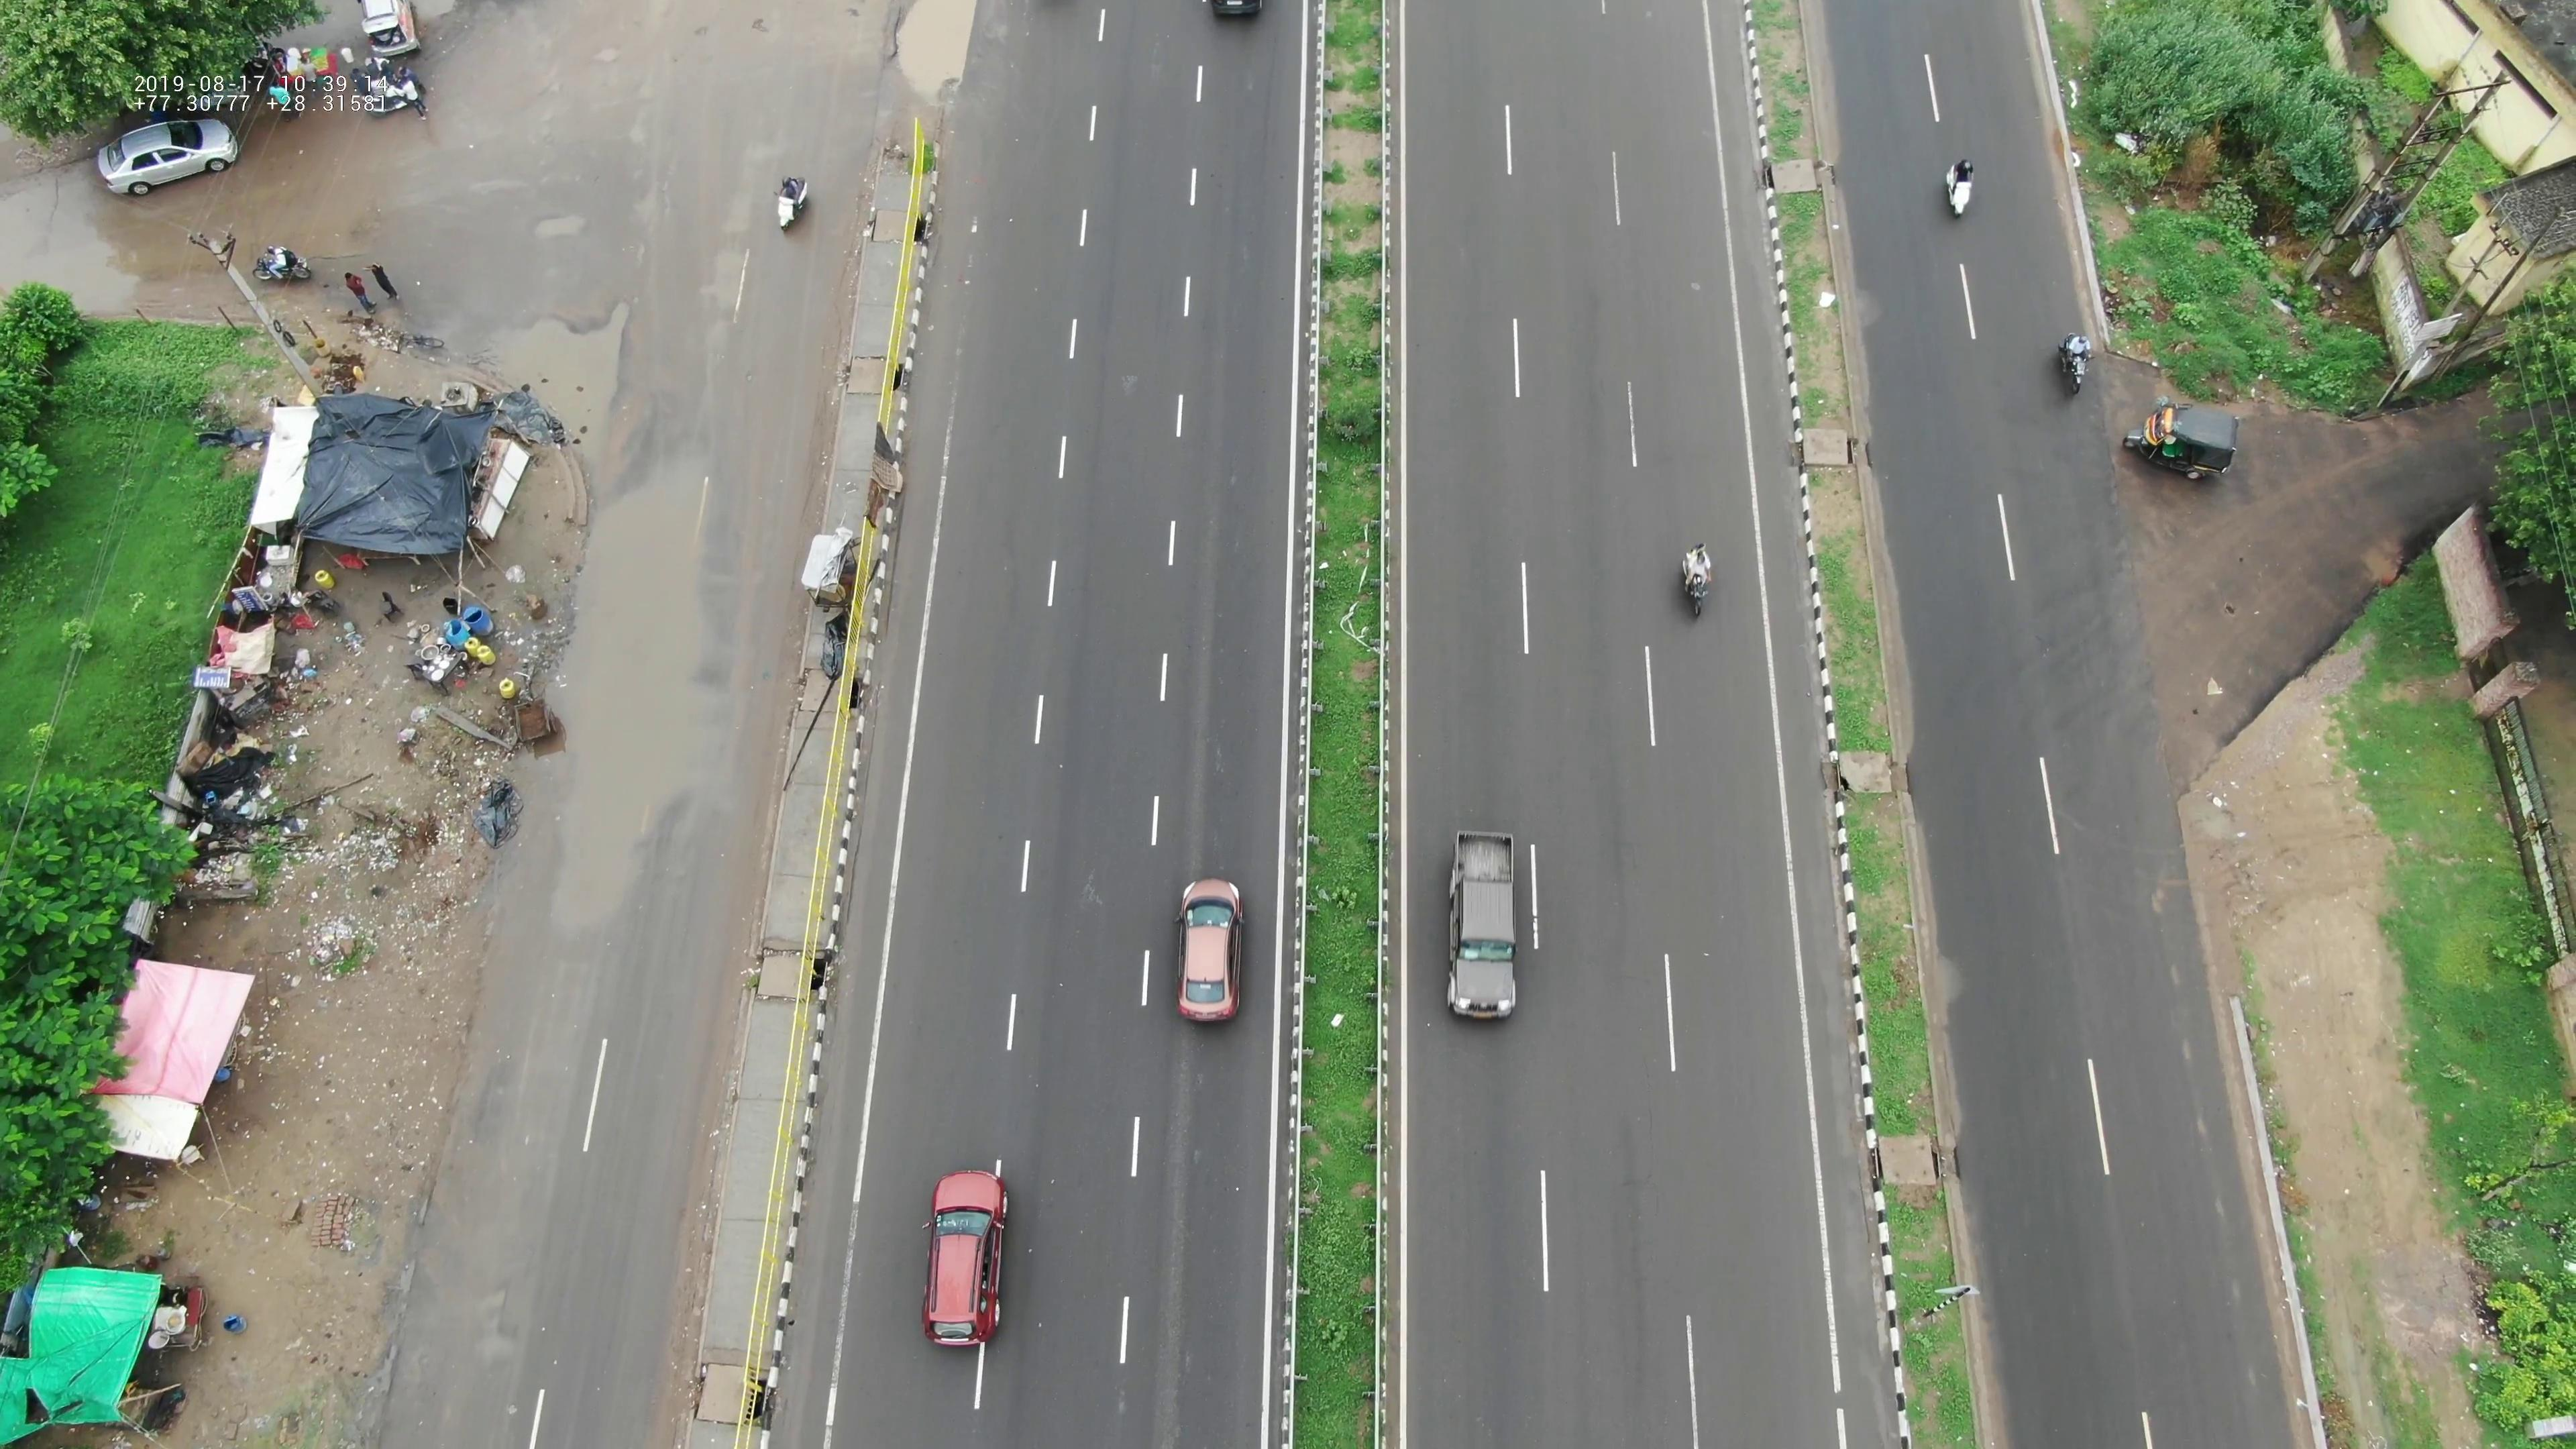Potholes: (449, 306, 649, 455), (683, 142, 768, 387), (2199, 1161, 2268, 1401), (545, 37, 662, 173), (2146, 955, 2226, 1150), (860, 0, 989, 113), (485, 196, 651, 260), (2128, 833, 2189, 991)
Waterlogging: (499, 472, 725, 947)
